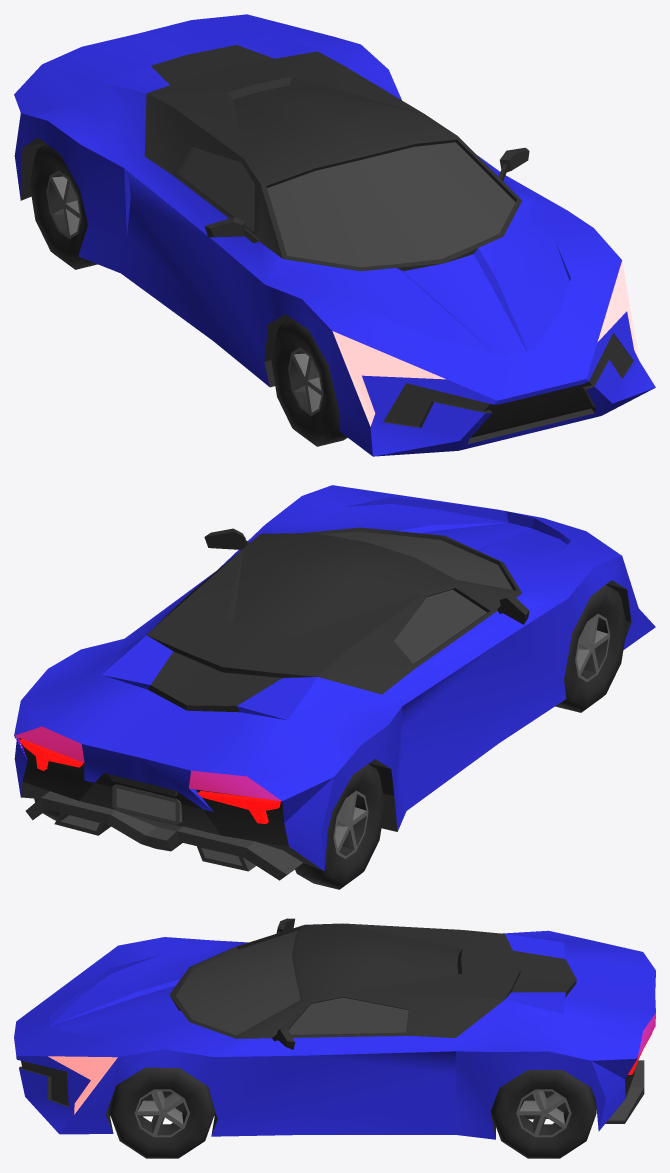
The model's file is car_cube070.glb.
The picture shows the model from 3 angles, top to bottom: view 1: azimuth 30°, elevation 25°; view 2: azimuth 150°, elevation 25°; view 3: azimuth 270°, elevation 25°; orthographic projection. The views are drawn at different scales.
Visible parts, largest first — view 1: Cube.070, Cylinder.061, Cylinder.062, Cube.071; view 2: Cube.070, Cylinder.062, Cylinder.061, Plane.001, Cube.139, Cube.147, Cube.098, Cube.071; view 3: Cube.070, Cylinder.061, Cylinder.062, Plane.001, Cube.071.
Boxes of the visible parts, x1,y1,x2,y2 form: Cube.070: (14, 14, 655, 456); Cylinder.061: (271, 319, 347, 446); Cylinder.062: (29, 144, 97, 269); Cube.071: (204, 147, 529, 242); Cube.070: (14, 485, 655, 871); Cylinder.062: (34, 764, 385, 889); Cylinder.061: (555, 585, 626, 712); Plane.001: (25, 791, 302, 880); Cube.139: (112, 784, 182, 824); Cube.147: (19, 739, 280, 823); Cube.098: (54, 813, 255, 871); Cube.071: (204, 528, 529, 624); Cube.070: (14, 923, 655, 1139); Cylinder.061: (109, 1067, 215, 1158); Cylinder.062: (491, 1070, 596, 1158); Plane.001: (605, 1060, 644, 1123); Cube.071: (272, 918, 295, 1049).
Size of the model in its own units: 2.22 by 1.3 by 4.88.
3 materials, 3 textured.
